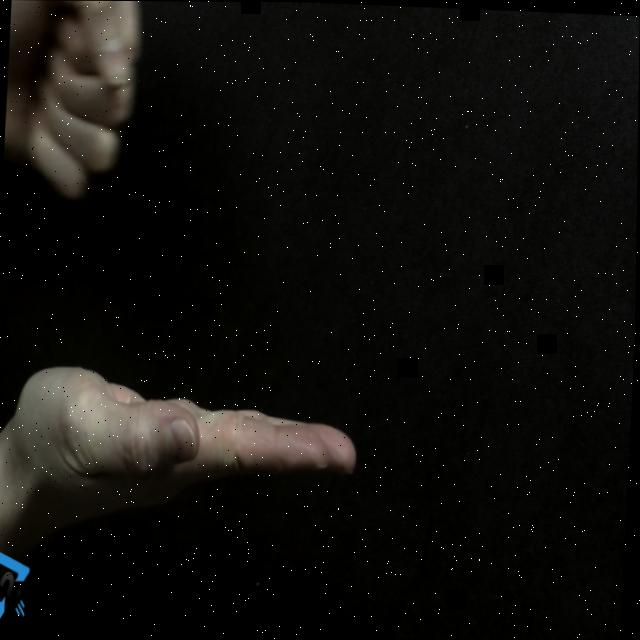Rock: (2, 0, 142, 203)
